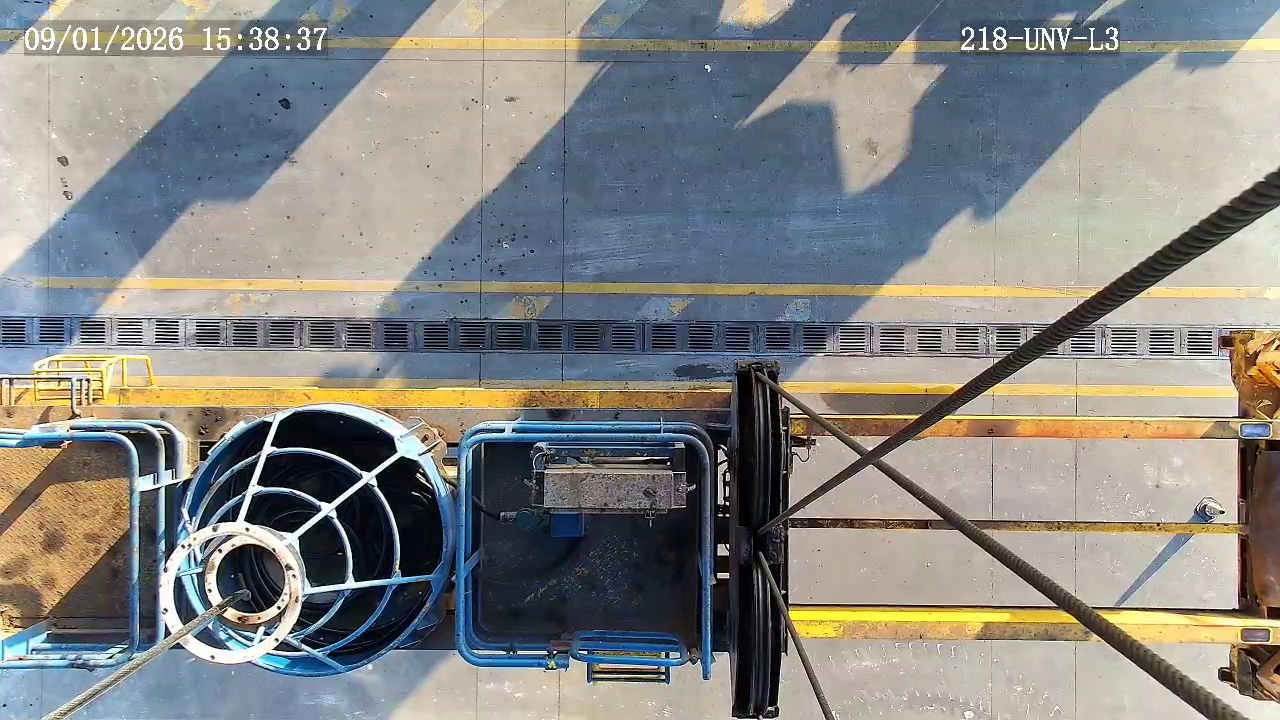right: (156, 522, 303, 664)
